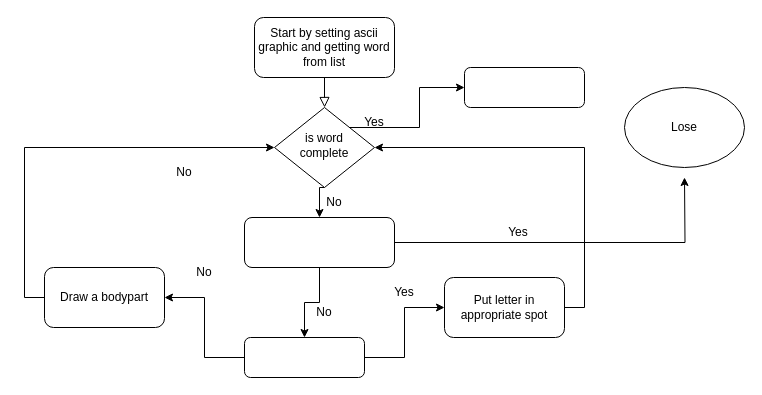
Image size: 762x395. Some labels were removed from this diagram. Each missing label, with the centre of its shape:
Are all bodyparts filled: [319,242]
Ask a letter: [304,357]
You Win: [524,87]
